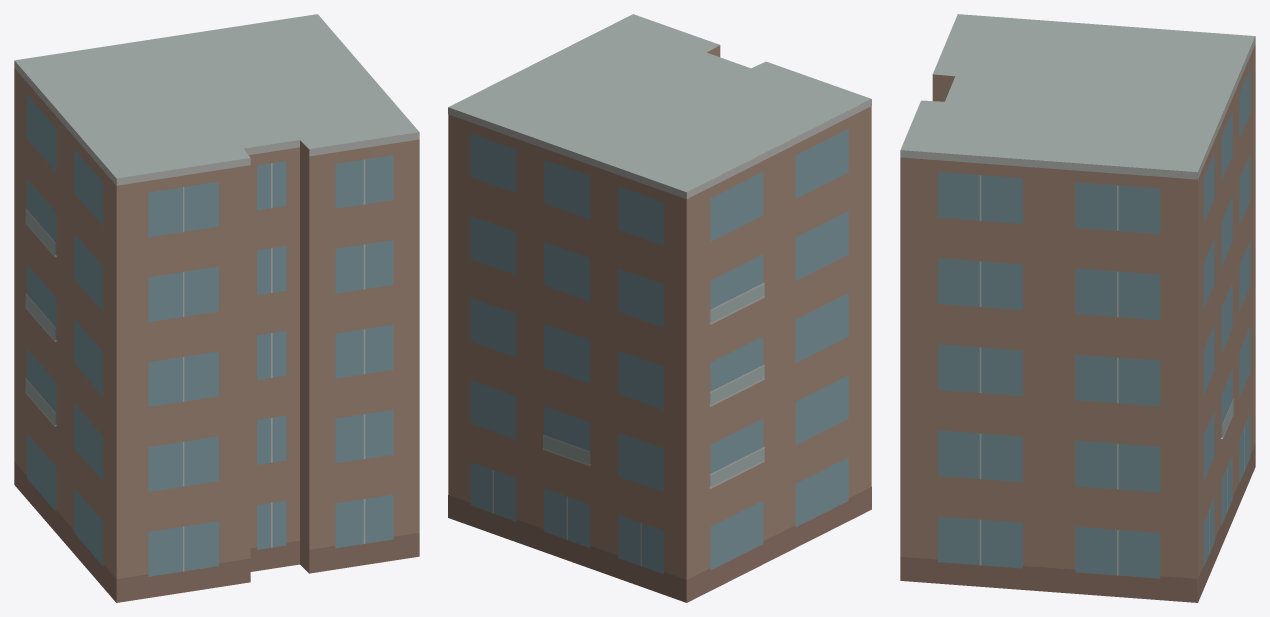
The model's file is survey-upis-32528056.glb.
3 views of the same model, side by side, from view 1: azimuth 30°, elevation 25°; view 2: azimuth 150°, elevation 25°; view 3: azimuth 270°, elevation 25° (orthographic). The views are drawn at different scales.
Visible parts, largest first — view 1: survey-upis-32528056.tmp; view 2: survey-upis-32528056.tmp; view 3: survey-upis-32528056.tmp.
Part boxes in pixels (<box>): survey-upis-32528056.tmp: <box>14,14,419,602</box>; survey-upis-32528056.tmp: <box>448,14,871,602</box>; survey-upis-32528056.tmp: <box>900,14,1255,602</box>.
Bounding box in the file's own units: 11.28 × 14.3 × 10.7.
